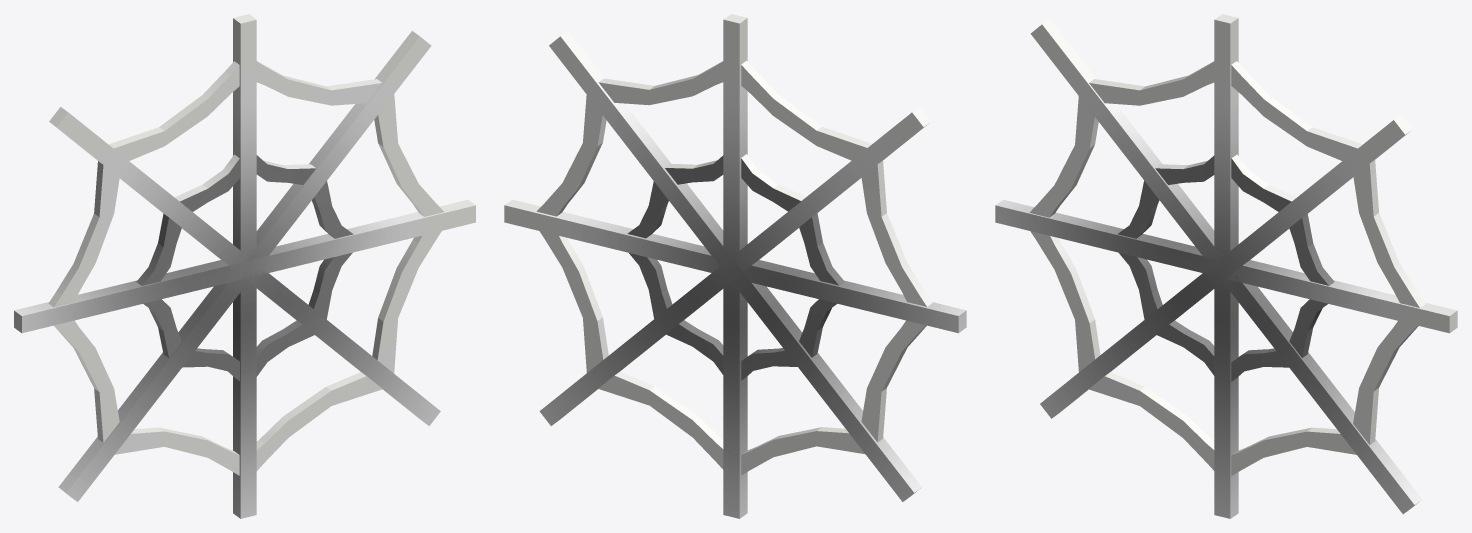
File: Spiderweb Model.fbx
The picture shows the model from 3 angles, left to right: view 1: azimuth 30°, elevation 25°; view 2: azimuth 150°, elevation 25°; view 3: azimuth 330°, elevation 25°; orthographic projection.
Parts seen in each view (by area): view 1: Spiderweb_Base; view 2: Spiderweb_Base; view 3: Spiderweb_Base.
Boxes of the visible parts, bbox=[...] form: Spiderweb_Base: bbox=[14, 14, 475, 518]; Spiderweb_Base: bbox=[504, 14, 966, 518]; Spiderweb_Base: bbox=[995, 14, 1457, 518].
Size of the model in its own units: 7.65 by 7.98 by 0.2285.
1 material, 1 textured.
